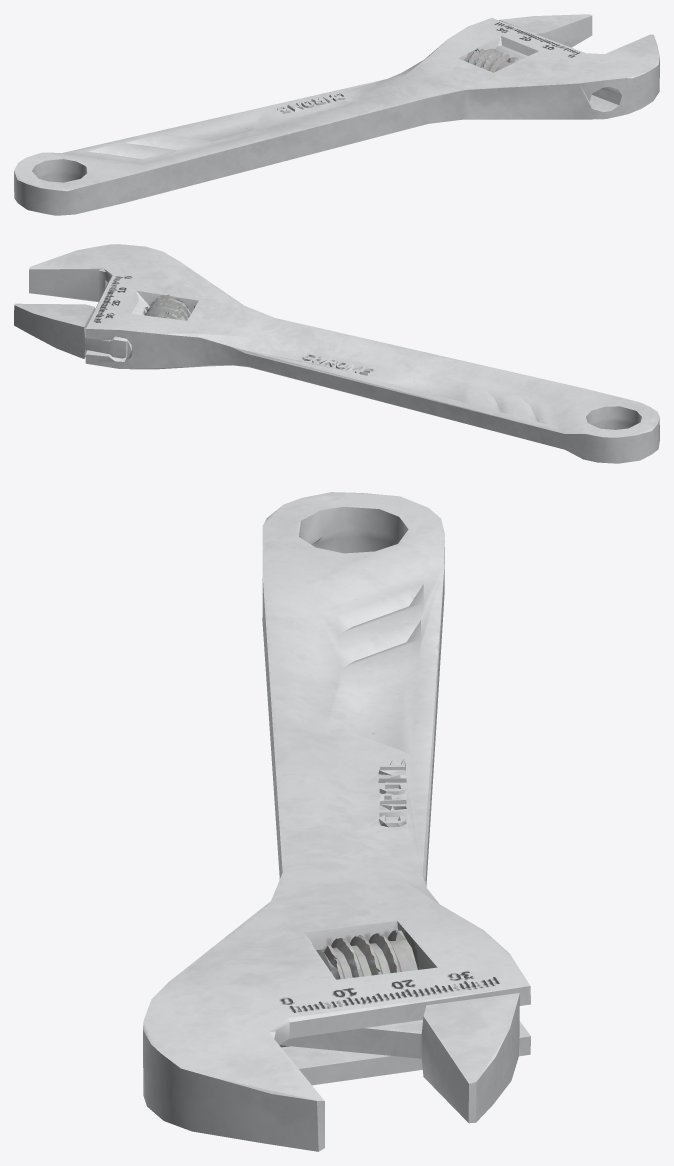
File: handtool_wrench_adjustable_a01.glb
3 renders of one model, top to bottom at view 1: azimuth 30°, elevation 25°; view 2: azimuth 150°, elevation 25°; view 3: azimuth 270°, elevation 25°, orthographic. The views are drawn at different scales.
Visible parts, largest first — view 1: handtool_wrench_adjustable_a01_lod1; view 2: handtool_wrench_adjustable_a01_lod1; view 3: handtool_wrench_adjustable_a01_lod1.
Part boxes in pixels (left/top/right/bottom): handtool_wrench_adjustable_a01_lod1: left=14, top=14, right=659, bottom=215; handtool_wrench_adjustable_a01_lod1: left=14, top=244, right=659, bottom=463; handtool_wrench_adjustable_a01_lod1: left=143, top=492, right=530, bottom=1151.
Bounding box in the file's own units: 0.2095 × 0.014 × 0.0564.
Materials: 1 (1 with a texture image).
